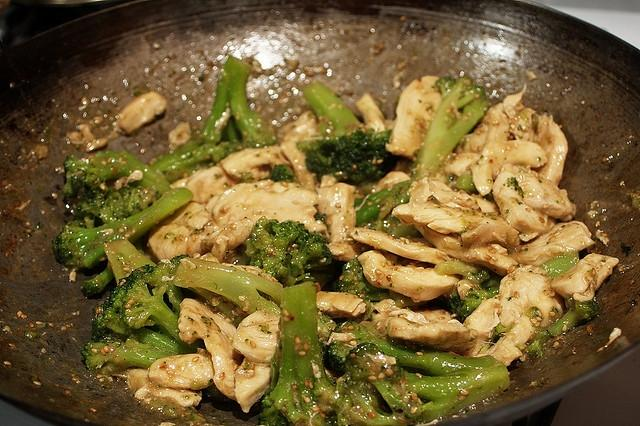broccoli: (258, 281, 340, 426), (52, 188, 194, 271), (296, 82, 398, 186), (409, 75, 488, 180), (200, 56, 278, 148), (174, 257, 284, 317), (245, 216, 333, 288), (343, 342, 423, 416), (121, 276, 192, 348), (80, 323, 174, 377), (62, 149, 142, 200), (75, 185, 162, 224), (448, 268, 499, 323), (104, 238, 158, 286), (336, 258, 391, 302), (548, 296, 600, 336), (376, 195, 417, 238), (354, 180, 412, 210), (164, 160, 216, 184), (540, 252, 580, 278), (455, 174, 478, 190)
